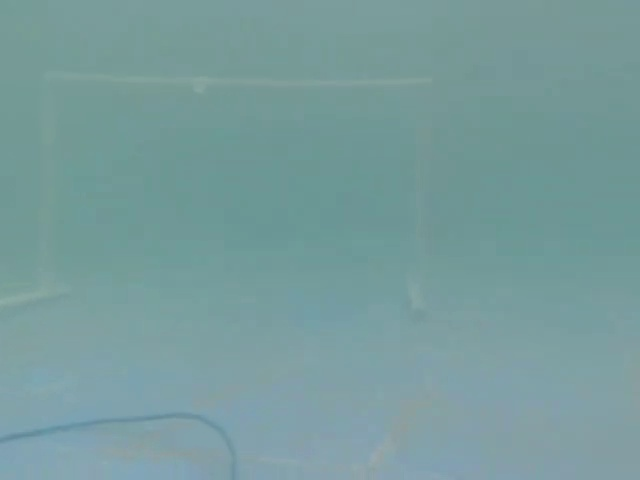gate: (0, 60, 449, 337)
